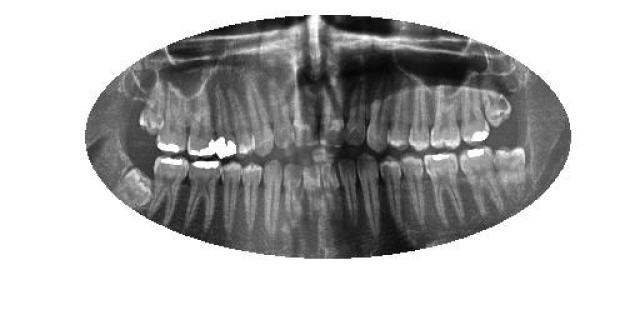Fillings: (458, 146, 504, 214), (152, 156, 188, 226), (188, 161, 222, 230), (424, 154, 458, 221), (186, 88, 216, 158), (158, 84, 188, 154), (461, 81, 490, 142), (215, 84, 237, 158)
Restorations: (116, 164, 155, 210)
